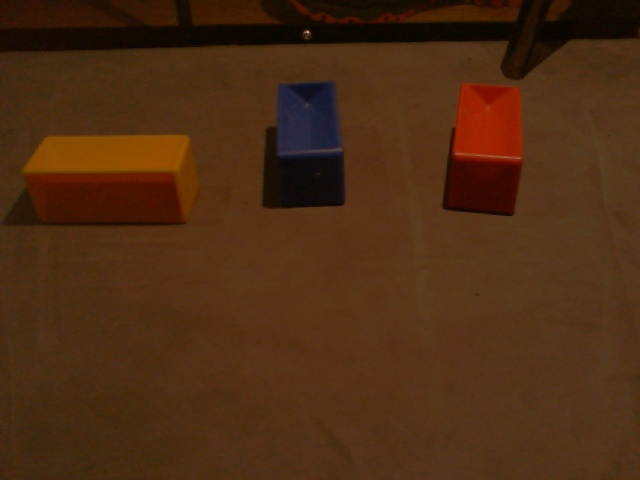BlueSample: (270, 77, 348, 211)
RedSample: (447, 78, 525, 218)
YellowSample: (21, 131, 204, 226)
